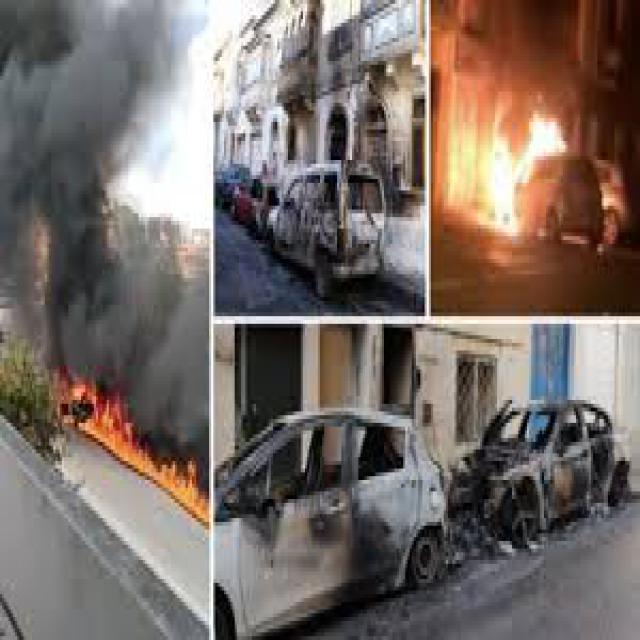fire: (484, 88, 572, 248)
